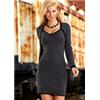vestito: (37, 22, 76, 95)
